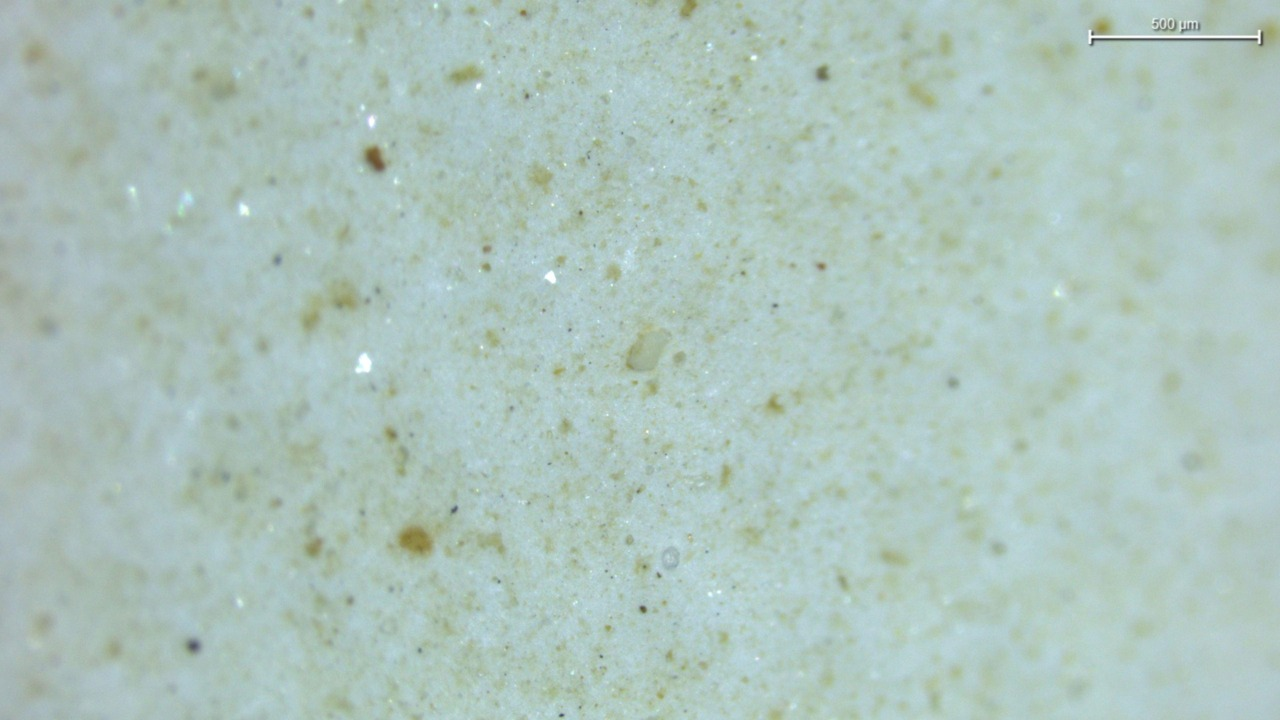microplastic_fragment: (627, 330, 669, 370), (661, 546, 680, 570)
